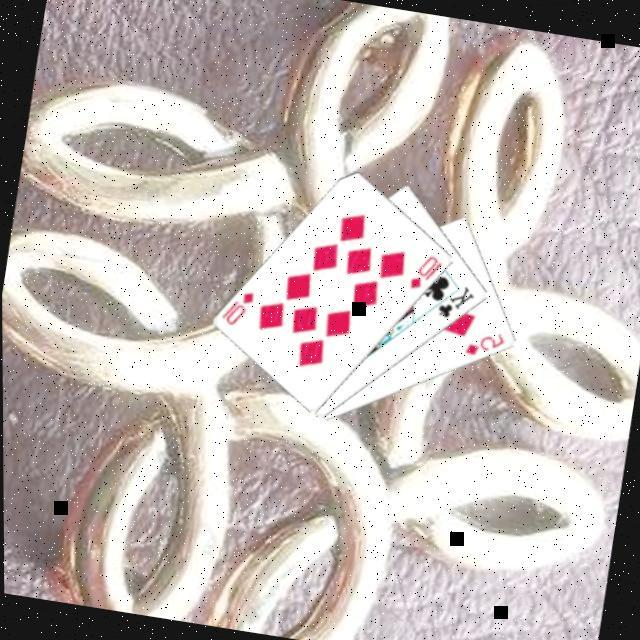10D: (408, 250, 448, 298), (219, 286, 259, 332)
5D: (462, 326, 510, 364)
KC: (427, 279, 481, 326)
